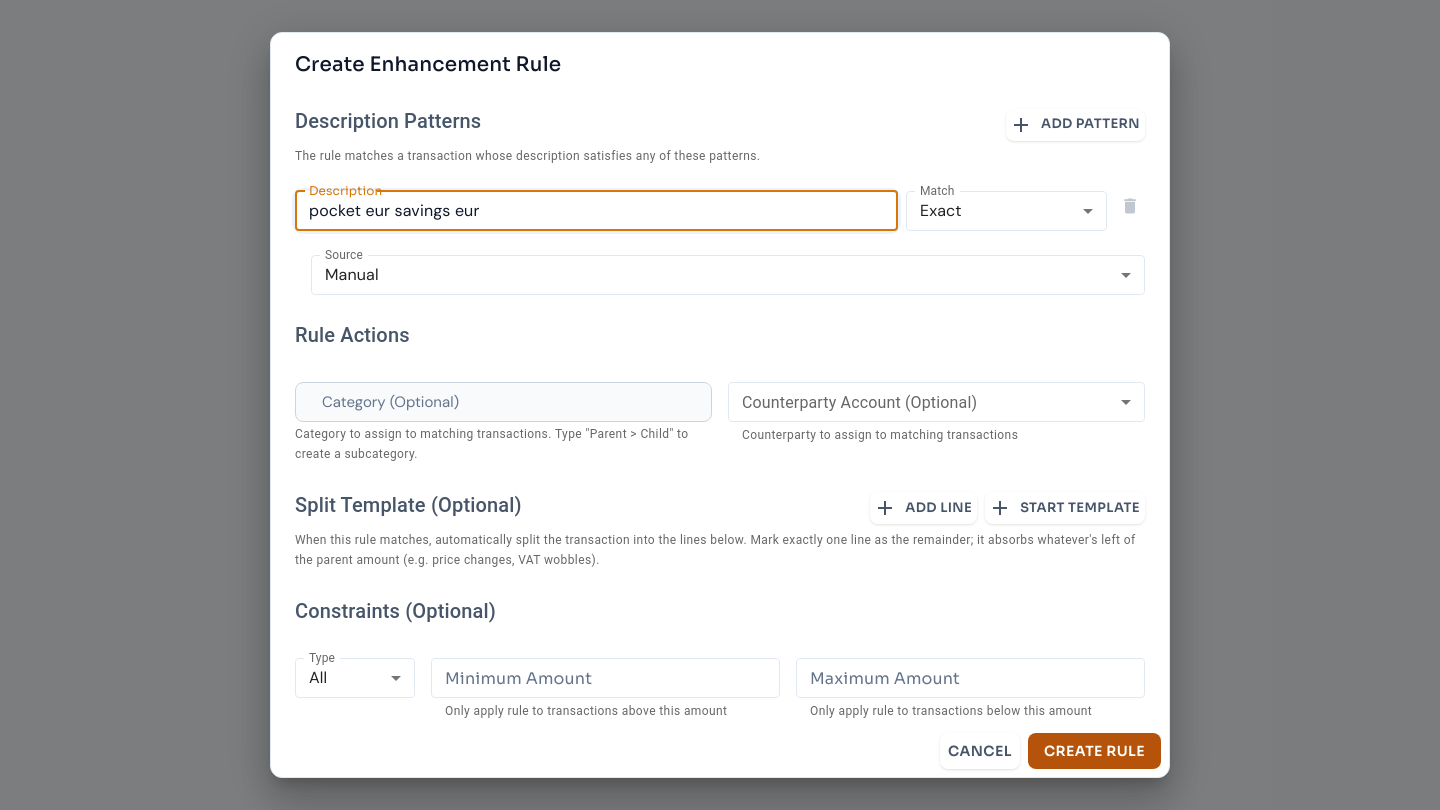
EnhancementRuleModal duplicate + edit description › shows how the typed description will be normalised (stripped chars are visible)
Replace the text in the field labelled "Description" with "pocket eur savings eur 2" at (596, 211), box x1=295 y1=191 x2=898 y2=231
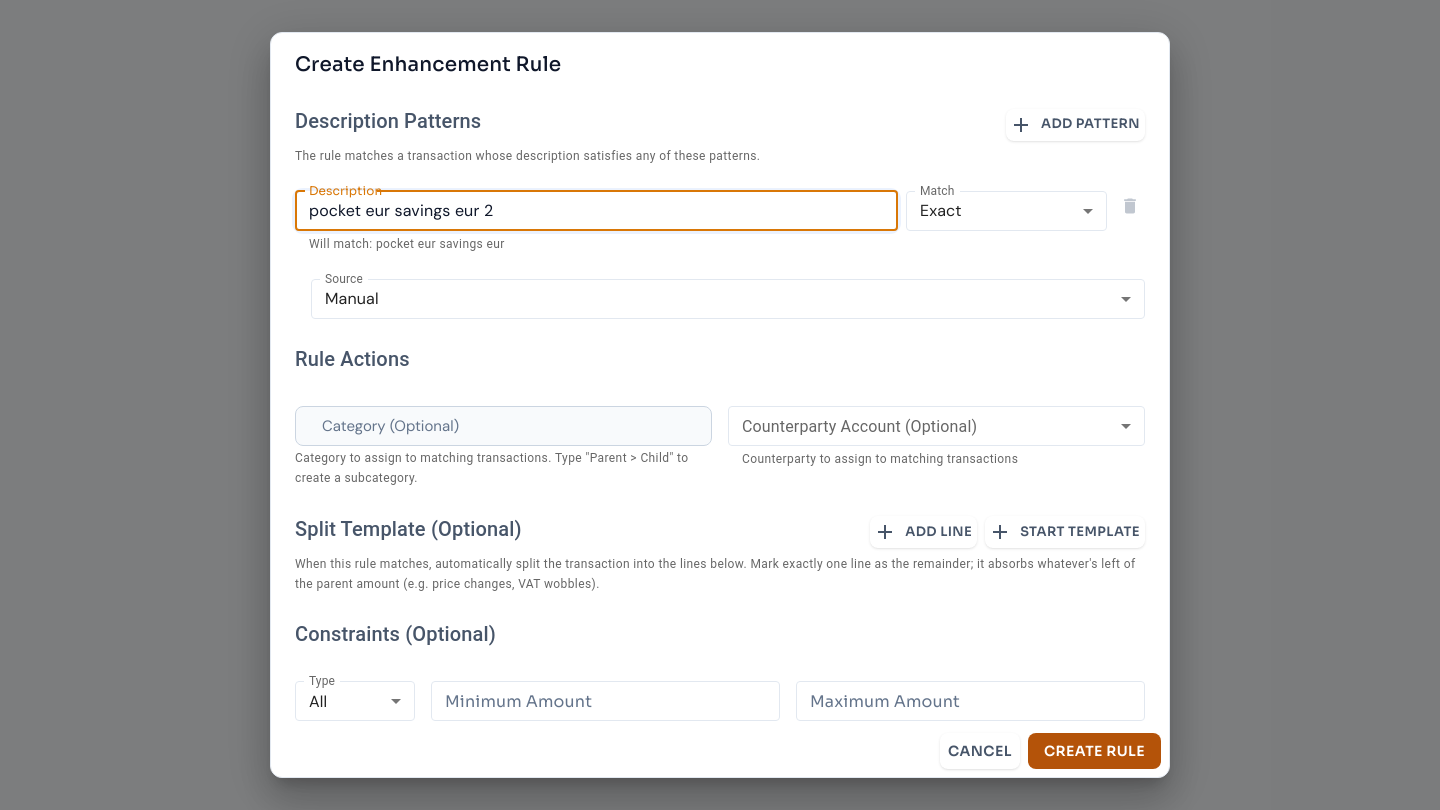
Now the text "Will match: pocket eur savings eur" is shown, box x1=309 y1=237 x2=505 y2=251
